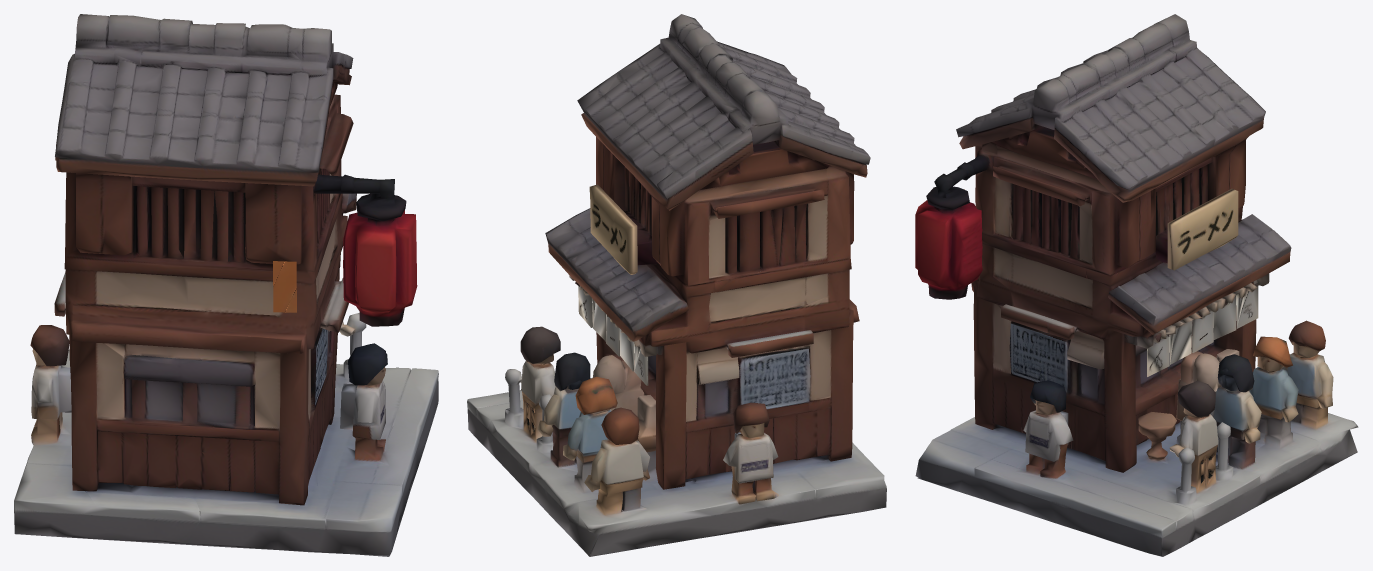
The model's file is shinshin.glb.
3 renders of one model, left to right at view 1: azimuth 30°, elevation 25°; view 2: azimuth 150°, elevation 25°; view 3: azimuth 270°, elevation 25°, orthographic. The views are drawn at different scales.
Visible parts, largest first — view 1: tripo_node_e751abf8-66a0-4f49-b444-f6050a135c4d; view 2: tripo_node_e751abf8-66a0-4f49-b444-f6050a135c4d; view 3: tripo_node_e751abf8-66a0-4f49-b444-f6050a135c4d.
Boxes of the visible parts, x1,y1,x2,y2 form: tripo_node_e751abf8-66a0-4f49-b444-f6050a135c4d: (14, 14, 438, 556); tripo_node_e751abf8-66a0-4f49-b444-f6050a135c4d: (467, 14, 886, 556); tripo_node_e751abf8-66a0-4f49-b444-f6050a135c4d: (915, 14, 1358, 556).
Size of the model in its own units: 1.01 by 1 by 1.01.
1 material, 1 textured.
